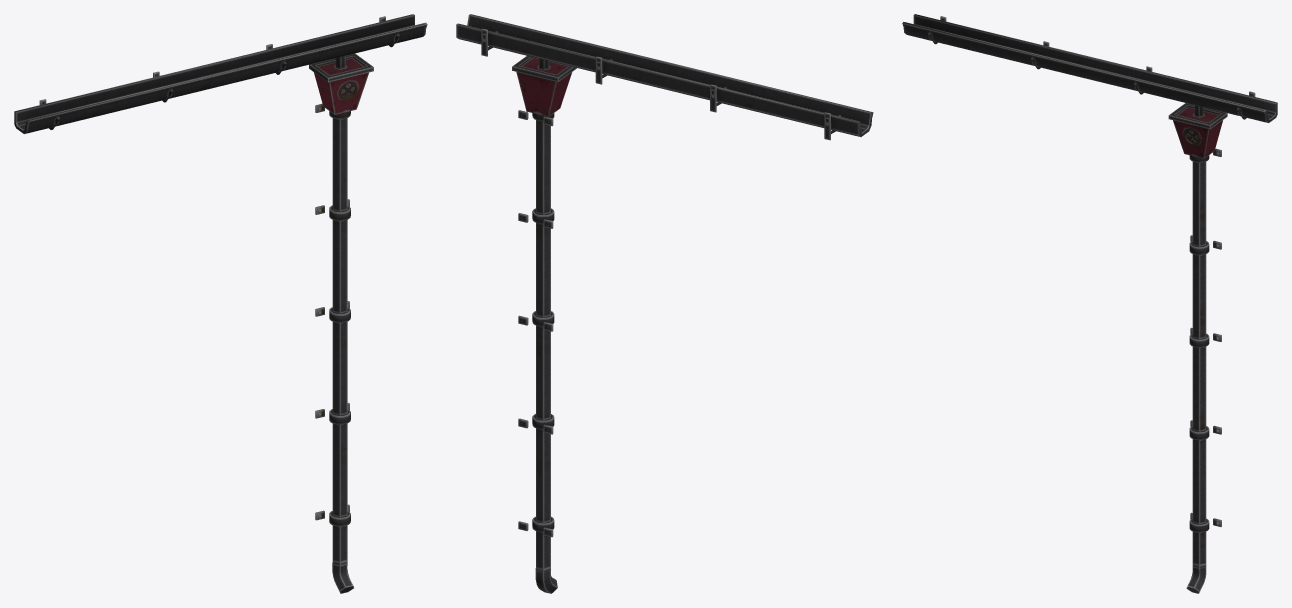
The model's file is EavesGutter.fbx.
The picture shows the model from 3 angles, left to right: view 1: azimuth 30°, elevation 25°; view 2: azimuth 150°, elevation 25°; view 3: azimuth 330°, elevation 25°; orthographic projection. The views are drawn at different scales.
Parts seen in each view (by area): view 1: EavesGutter; view 2: EavesGutter; view 3: EavesGutter.
Part boxes in pixels (x1,y1,x2,y2): EavesGutter: [14, 14, 427, 593]; EavesGutter: [456, 14, 873, 593]; EavesGutter: [902, 14, 1277, 593].
Size of the model in its own units: 800 by 1063 by 66.95.
